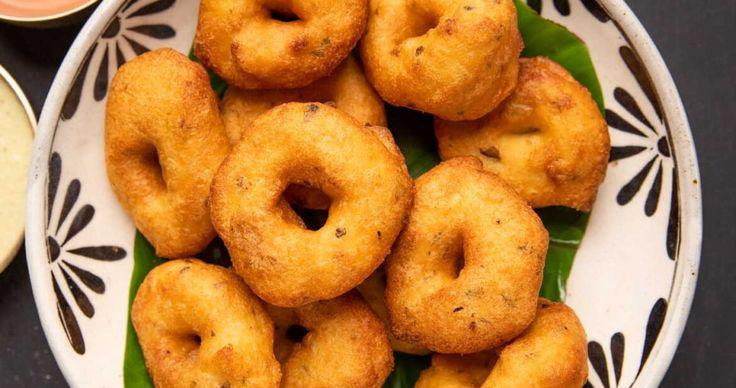medu vada: (110, 7, 617, 387)
